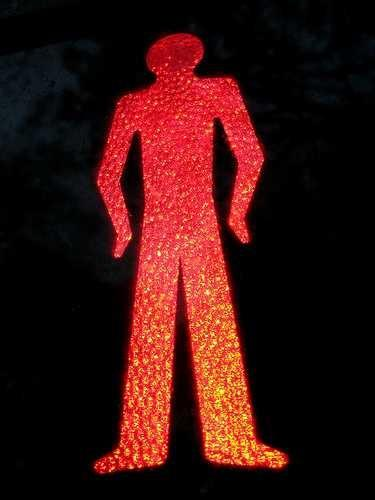red: (4, 11, 357, 500)
